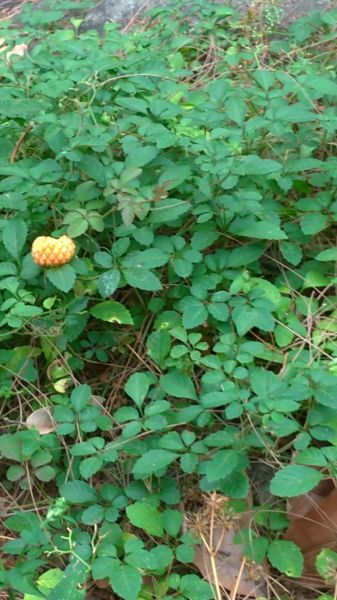eggs: (27, 233, 76, 269)
